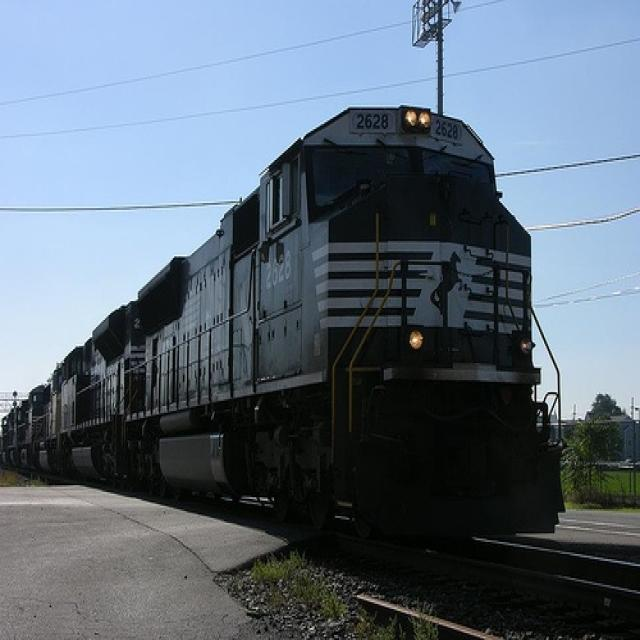train: (0, 103, 564, 555)
